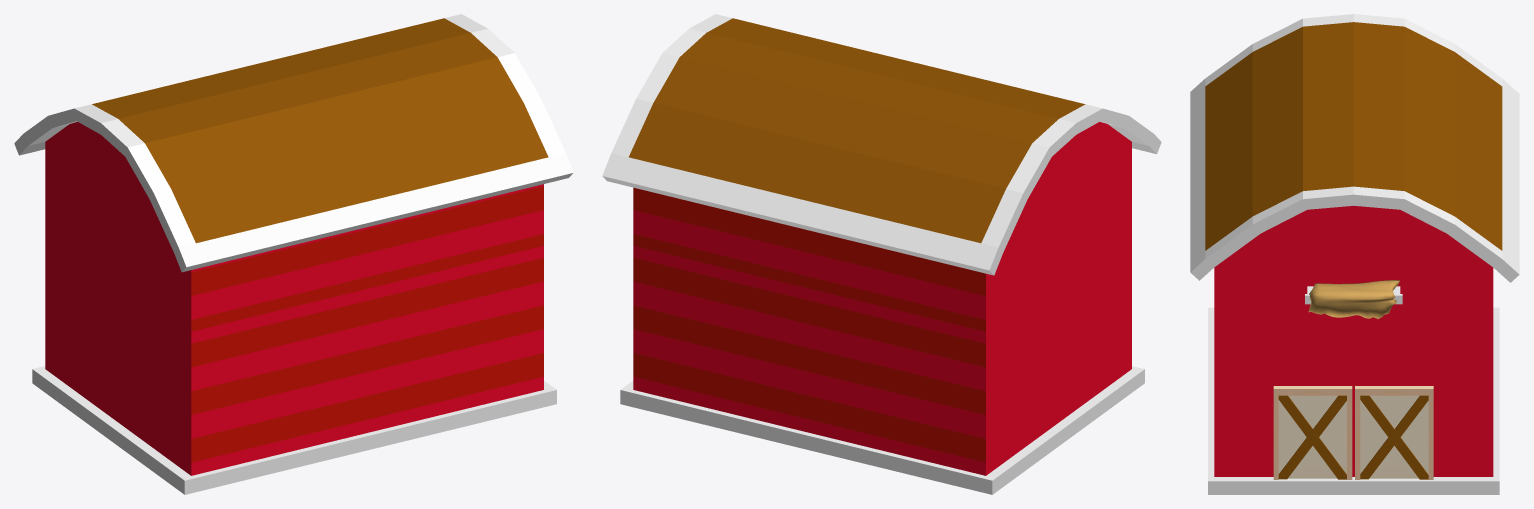
The model's file is lowpolybarn.fbx.
3 renders of one model, left to right at view 1: azimuth 30°, elevation 25°; view 2: azimuth 150°, elevation 25°; view 3: azimuth 270°, elevation 25°, orthographic. The views are drawn at different scales.
Visible parts, largest first — view 1: barn; view 2: barn; view 3: barn.
Boxes of the visible parts, x1=… form: barn: x1=14, y1=14, x2=573, y2=494; barn: x1=602, y1=14, x2=1161, y2=494; barn: x1=1190, y1=14, x2=1519, y2=494.
Size of the model in its own units: 875 by 684 by 671.
